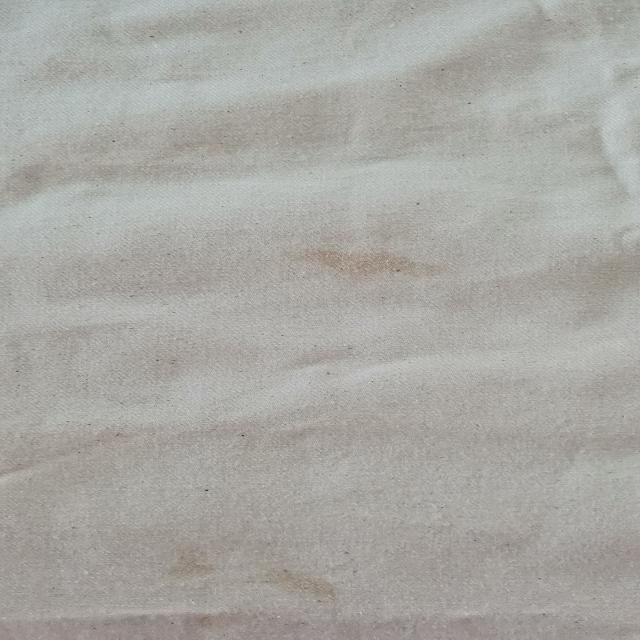taaaches: (287, 229, 458, 293), (140, 539, 219, 587), (270, 558, 339, 596), (168, 610, 266, 636)
